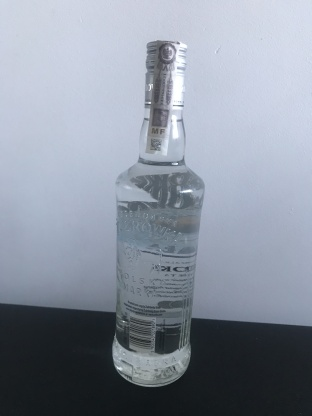nakretka: (142, 35, 189, 111)
